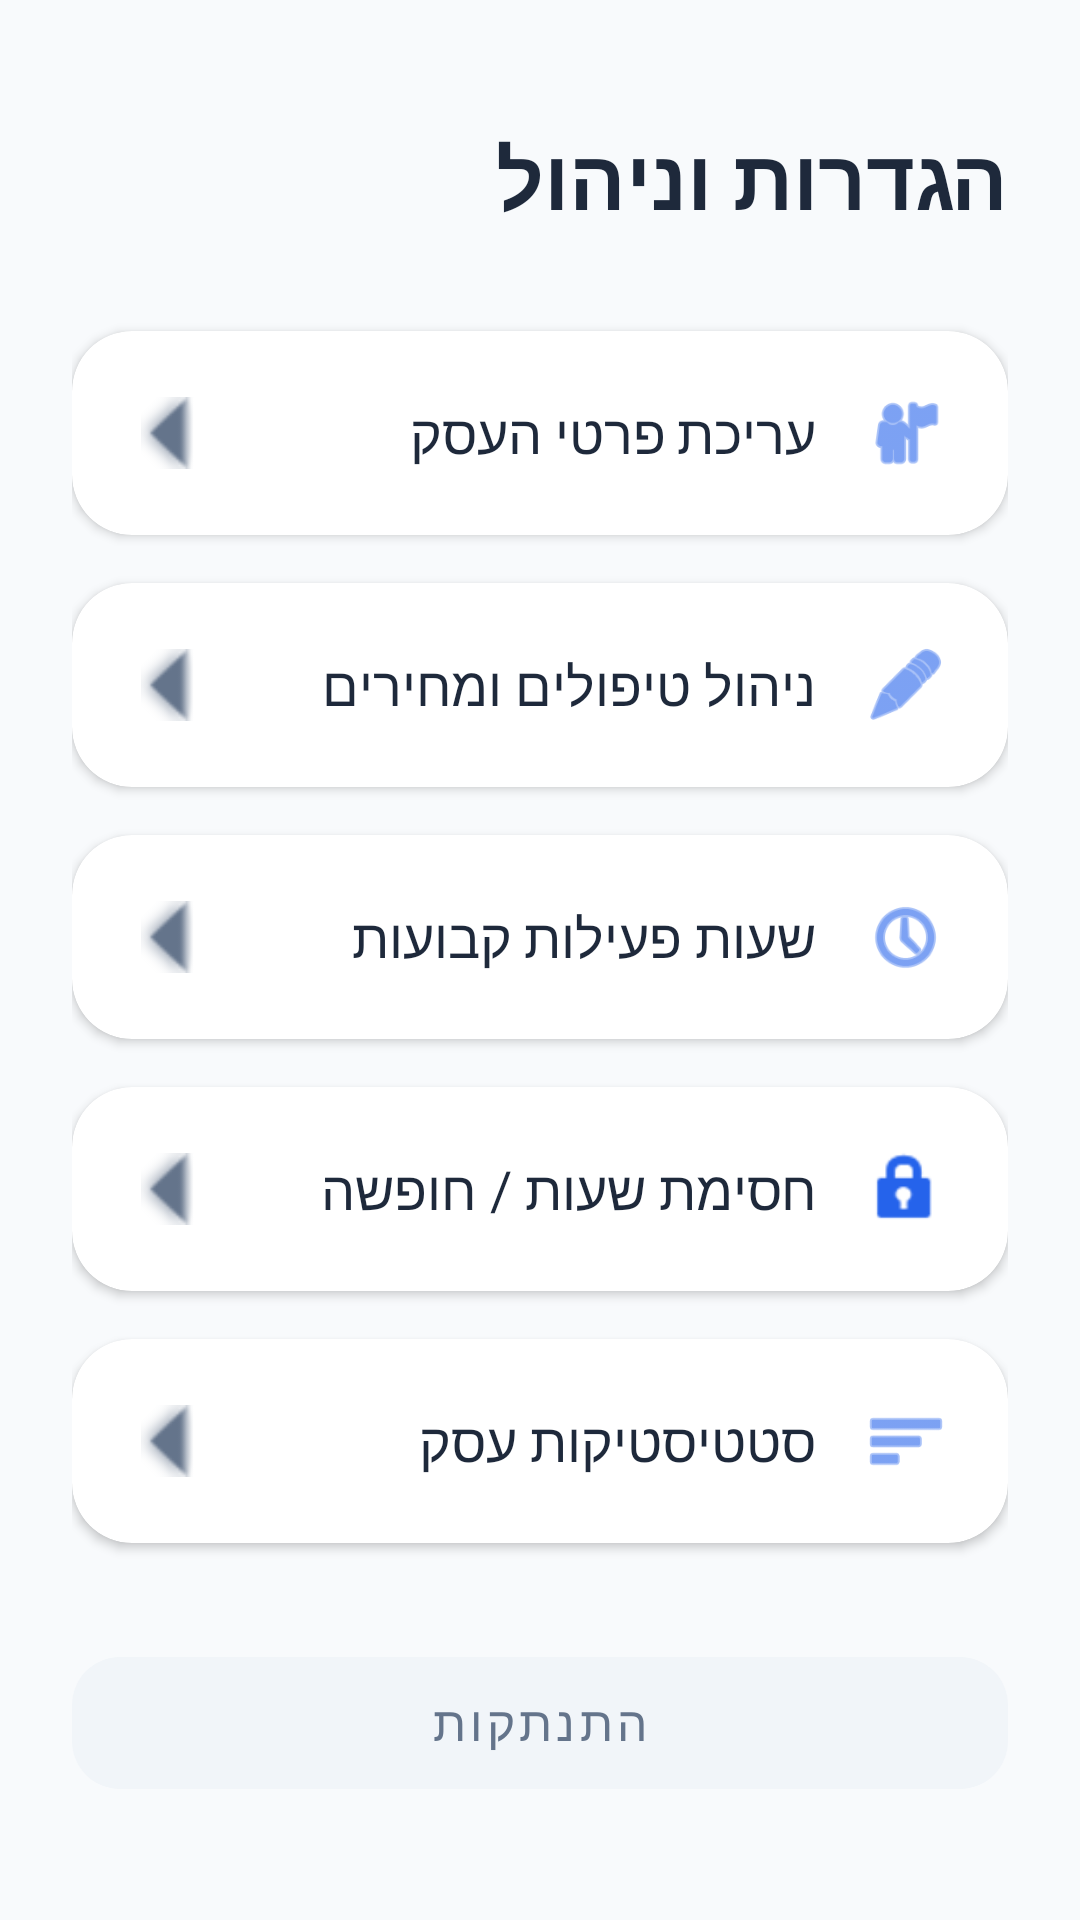

Icon bounding boxes for this 1080w x 1920h phone screenshot, format {"left": x1, "top": y1, "right": x2, "bottom": y2}:
edit: {"left": 870, "top": 649, "right": 941, "bottom": 720}
lock idle: {"left": 876, "top": 1154, "right": 932, "bottom": 1219}
myplaces: {"left": 875, "top": 402, "right": 938, "bottom": 464}
recent history: {"left": 875, "top": 907, "right": 936, "bottom": 968}
sort by size: {"left": 870, "top": 1418, "right": 942, "bottom": 1465}
